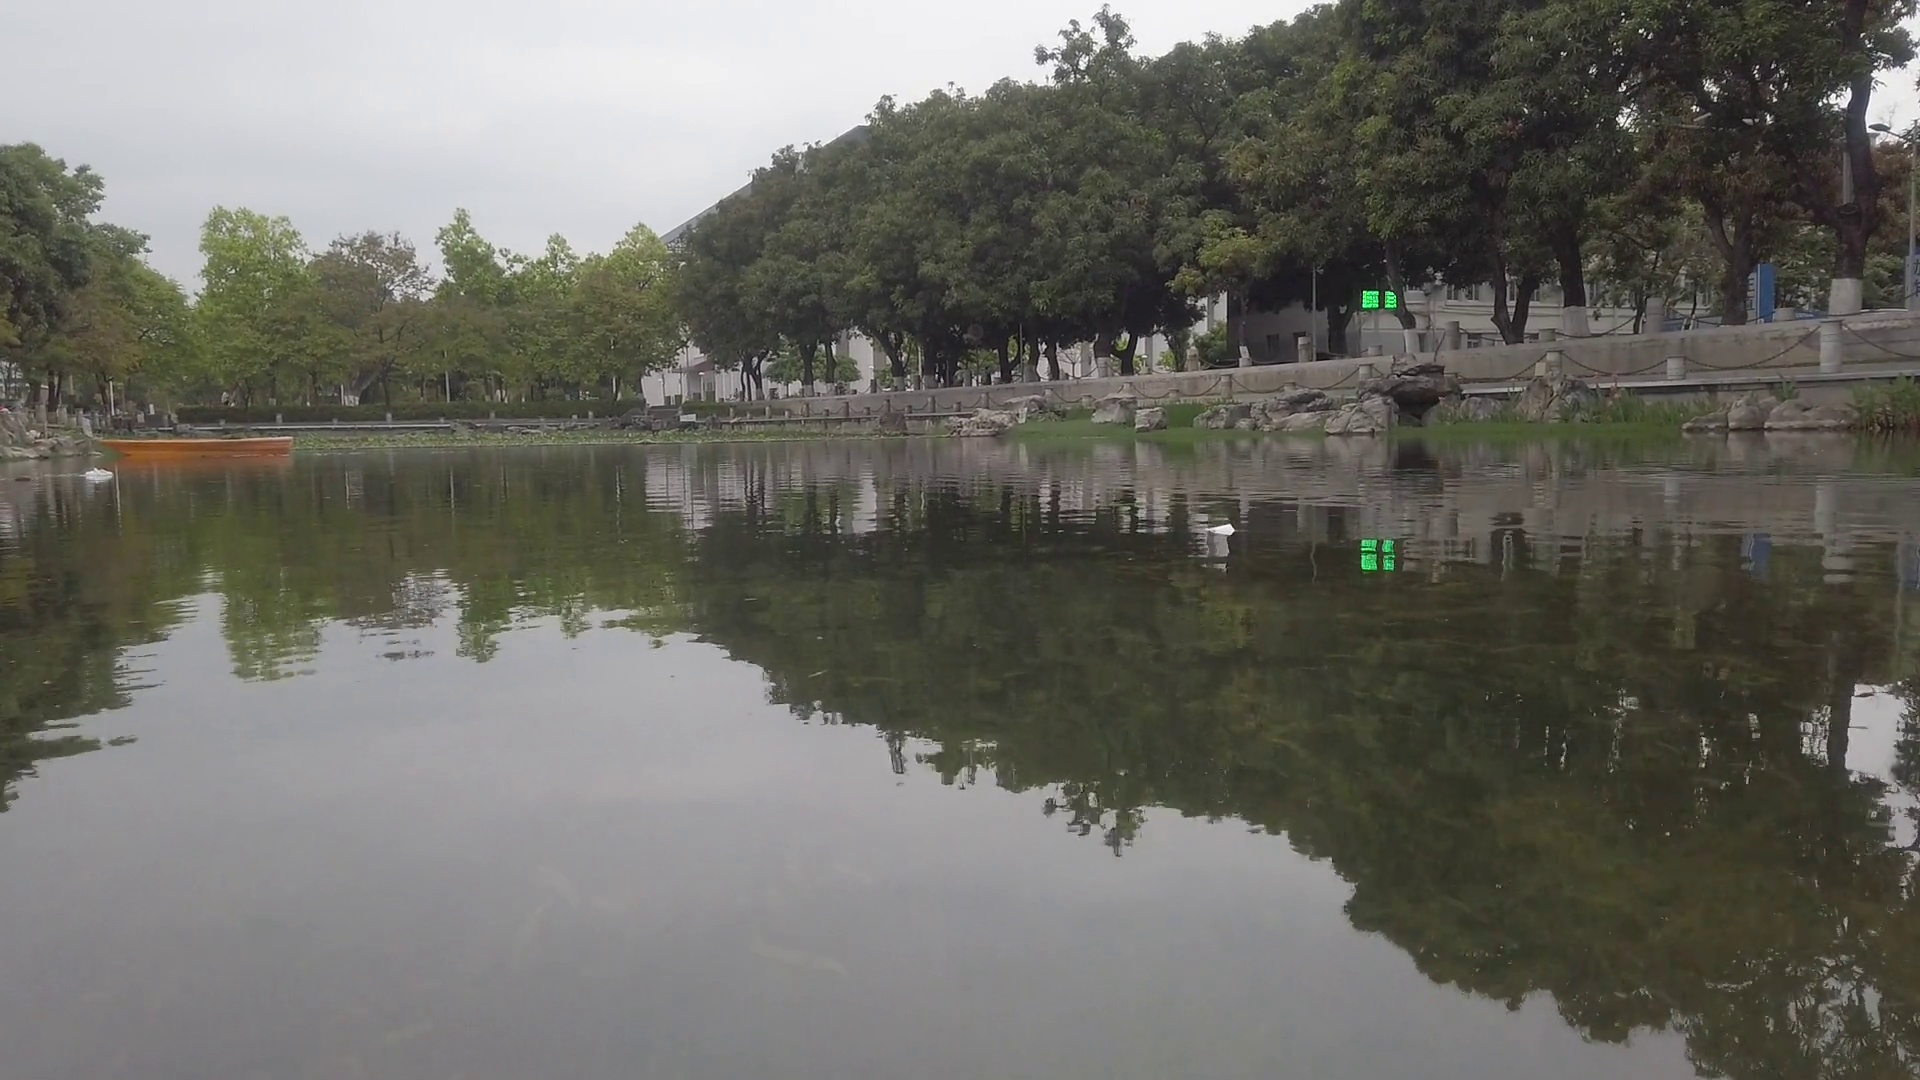paper: (1207, 524, 1241, 538)
plastic: (84, 467, 113, 481)
